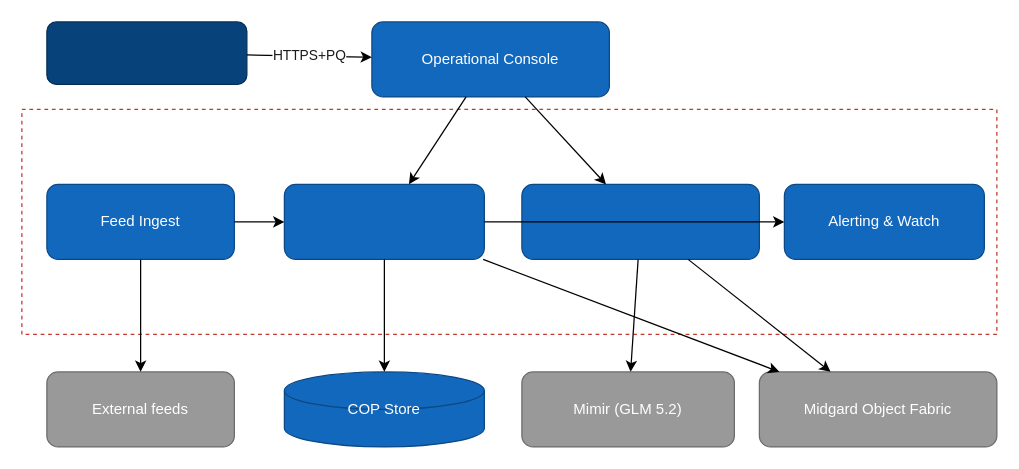
This 1019x469 diagram has some shape labels left out. The shapes that lost their labels are listed below. From the top down, each one's box as (x1, y1, x2, y2) in pixels, then its label:
(46, 21, 247, 84): Operator / Analyst
(283, 183, 484, 259): Fusion Engine
(21, 108, 997, 334): HEIMDALL
(521, 183, 759, 259): COA & Decision Engine
